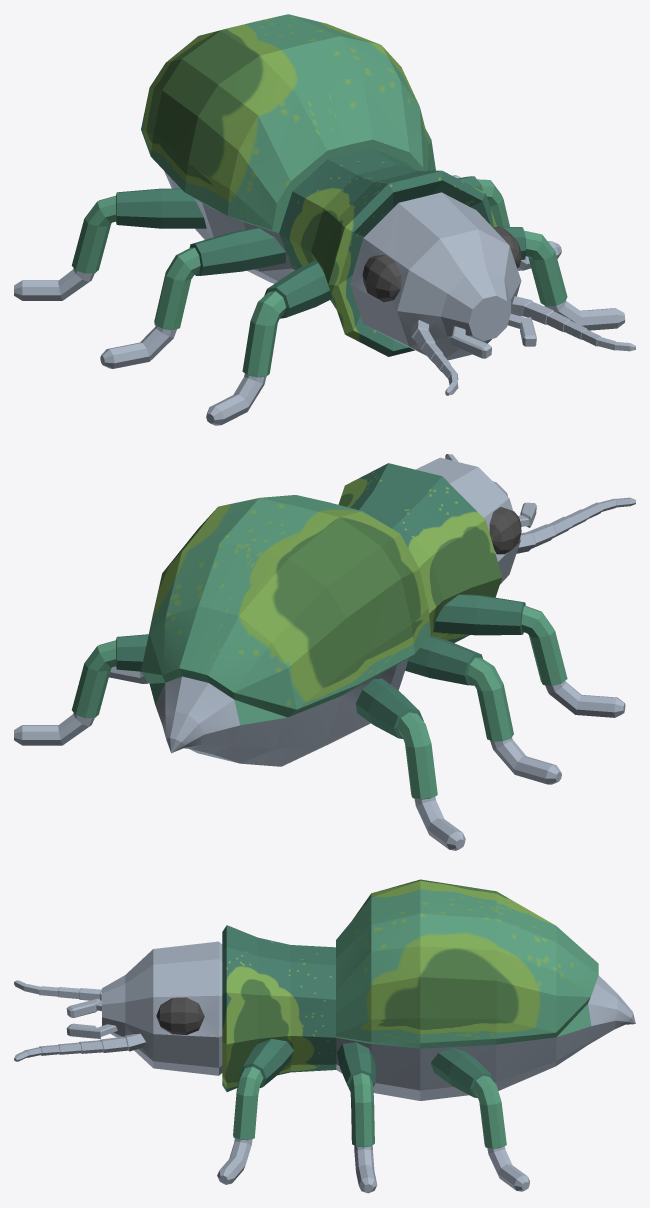
File: Beetle_Complete 1.fbx
3 renders of one model, top to bottom at view 1: azimuth 30°, elevation 25°; view 2: azimuth 150°, elevation 25°; view 3: azimuth 270°, elevation 25°, orthographic. The views are drawn at different scales.
Parts seen in each view (by area): view 1: Beetle_Body, Beetle_Leg002, Beetle_Leg003, Beetle_Leg001, Beetle_Leg004, Beetle_Leg005; view 2: Beetle_Body, Beetle_Leg001, Beetle_Leg002, Beetle_Leg003, Beetle_Leg006; view 3: Beetle_Body, Beetle_Leg006, Beetle_Leg004, Beetle_Leg005.
Part boxes in pixels (box(x1,y1,x2,y2)): Beetle_Body: box(141, 14, 635, 395); Beetle_Leg002: box(100, 228, 285, 368); Beetle_Leg003: box(14, 188, 206, 300); Beetle_Leg001: box(206, 260, 332, 425); Beetle_Leg004: box(497, 226, 625, 330); Beetle_Leg005: box(458, 176, 561, 270); Beetle_Body: box(141, 454, 635, 766); Beetle_Leg001: box(433, 594, 625, 717); Beetle_Leg002: box(405, 635, 561, 784); Beetle_Leg003: box(355, 678, 465, 850); Beetle_Leg006: box(14, 634, 148, 745); Beetle_Body: box(14, 879, 635, 1100); Beetle_Leg006: box(430, 1048, 529, 1191); Beetle_Leg004: box(217, 1038, 293, 1184); Beetle_Leg005: box(337, 1042, 377, 1193).
Bounding box in the file's own units: 136 × 70.01 × 191.
2 materials, 2 textured.
